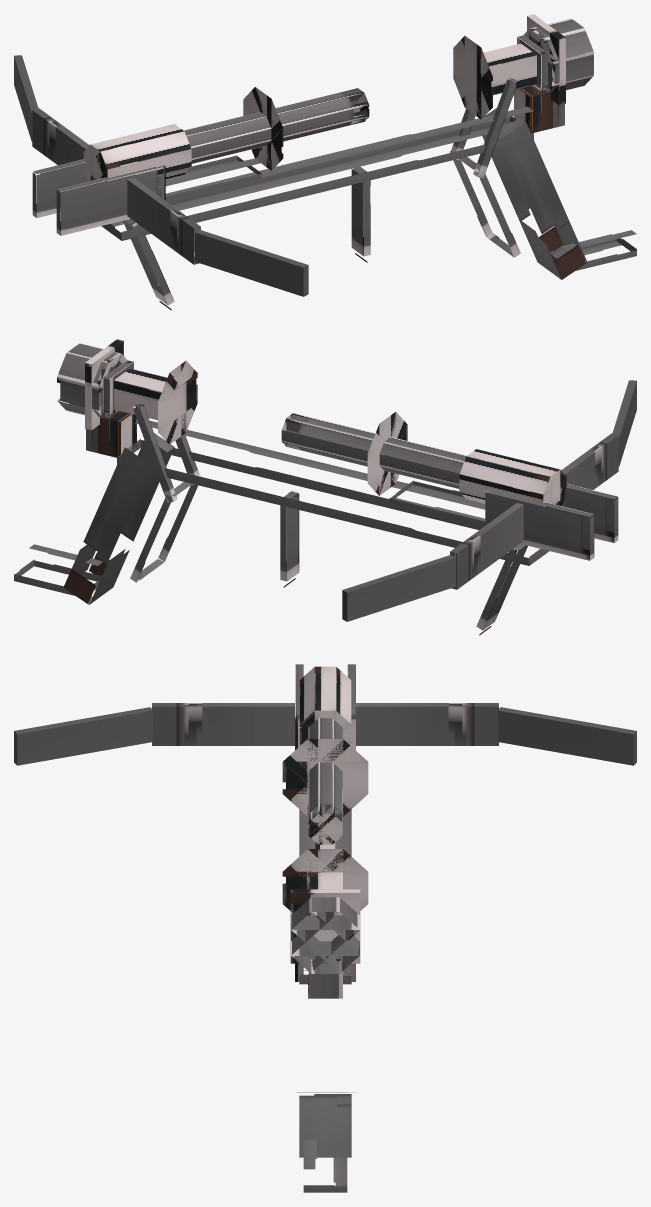
The model's file is crossbow_v2.obj.
The picture shows the model from 3 angles, top to bottom: view 1: azimuth 30°, elevation 25°; view 2: azimuth 150°, elevation 25°; view 3: azimuth 270°, elevation 25°; orthographic projection. The views are drawn at different scales.
Visible parts, largest first — view 1: big, Box52; view 2: big, Box52; view 3: big, Box52.
Boxes of the visible parts, <box> form: big: <box>14,55,636,296</box>; Box52: <box>83,14,593,310</box>; big: <box>14,380,636,621</box>; Box52: <box>57,339,567,635</box>; big: <box>14,664,636,1192</box>; Box52: <box>282,666,368,1092</box>.
Bounding box in the file's own units: 0.6484 × 0.2653 × 0.5609.
